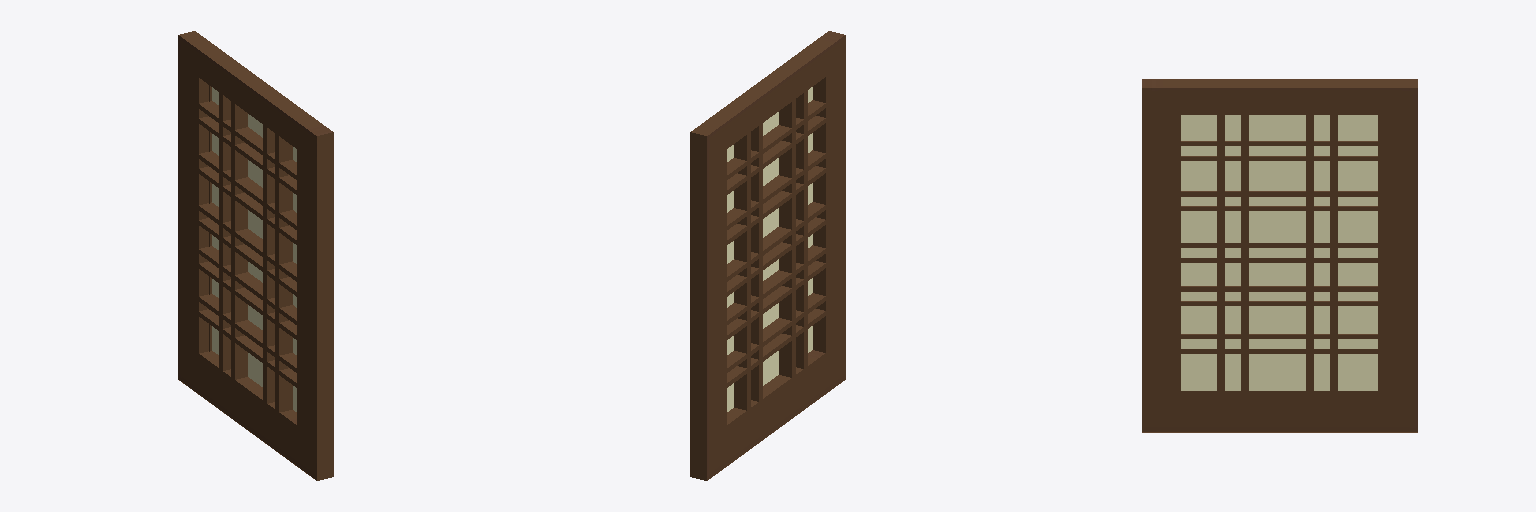
The picture shows the model from 3 angles: view 1: azimuth 30°, elevation 25°; view 2: azimuth 150°, elevation 25°; view 3: azimuth 270°, elevation 25°; orthographic projection.
Parts seen in each view (by area): view 1: polySurface1935; view 2: polySurface1935; view 3: polySurface1935.
Part boxes in pixels (x1,y1,x2,y2): polySurface1935: (178,31,333,480); polySurface1935: (690,31,845,480); polySurface1935: (1142,79,1417,432).
Bounding box in the file's own units: 0.7037 × 13.87 × 10.09.
2 materials, 2 textured.